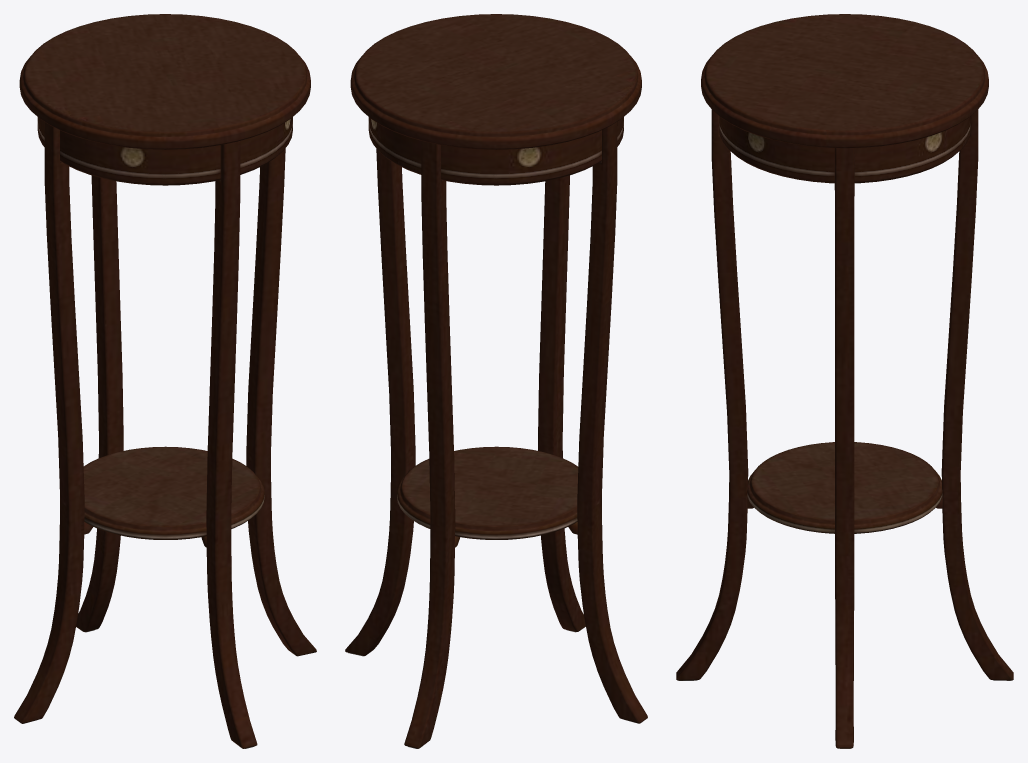
Rendered from side_table_tall_01.glb.
3 renders of one model, left to right at view 1: azimuth 30°, elevation 25°; view 2: azimuth 150°, elevation 25°; view 3: azimuth 270°, elevation 25°, orthographic.
Parts seen in each view (by area): view 1: side_table_tall_01; view 2: side_table_tall_01; view 3: side_table_tall_01.
Part boxes in pixels (bbox=[...]): side_table_tall_01: bbox=[14, 14, 316, 748]; side_table_tall_01: bbox=[345, 14, 647, 748]; side_table_tall_01: bbox=[676, 14, 1013, 748].
Bounding box in the file's own units: 0.384 × 0.7612 × 0.384.
Materials: 1 (1 with a texture image).
